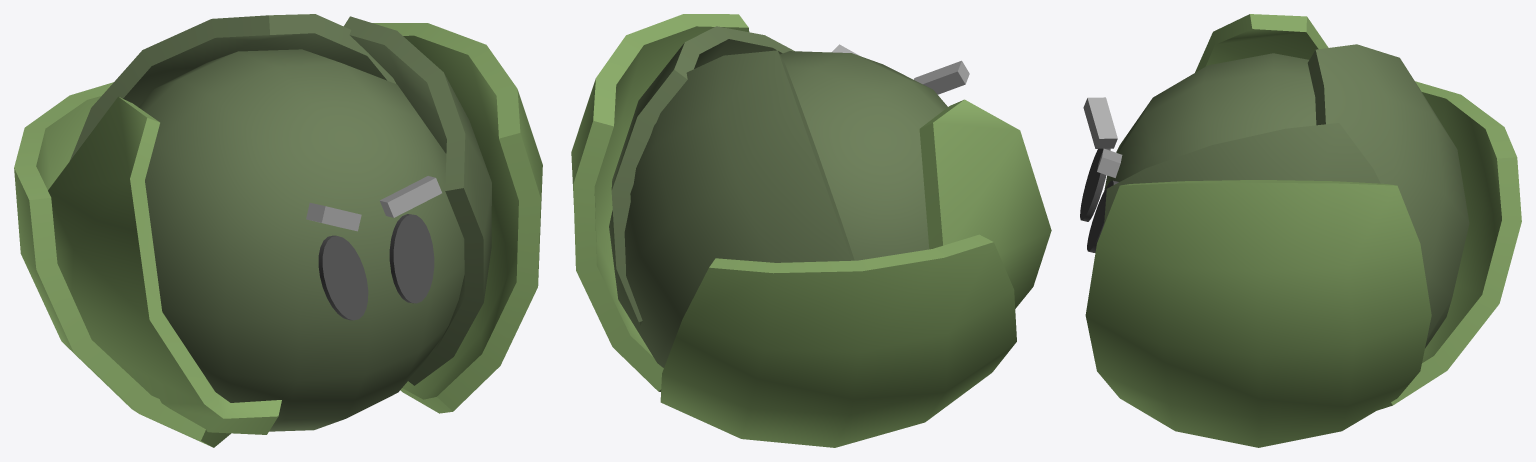
Rendered from Enemy.fbx.
3 views of the same model, side by side, from view 1: azimuth 30°, elevation 25°; view 2: azimuth 150°, elevation 25°; view 3: azimuth 270°, elevation 25° (orthographic). The views are drawn at different scales.
Visible parts, largest first — view 1: Body, L5, L4, L2, L3, L1, EL1, E1, BL1, BR1; view 2: L2, L1, Body, L4, L5, L3, BR1; view 3: L4, L1, L2, Body, L3, L5, BR1, E1, EL1, BL1.
Boxes of the visible parts, bbox=[...] form: Body: bbox=[138, 49, 464, 431]; L5: bbox=[48, 96, 281, 434]; L4: bbox=[372, 23, 542, 413]; L2: bbox=[14, 82, 230, 447]; L3: bbox=[343, 16, 491, 385]; L1: bbox=[70, 14, 396, 160]; EL1: bbox=[389, 214, 434, 303]; E1: bbox=[318, 235, 368, 320]; BL1: bbox=[379, 176, 441, 217]; BR1: bbox=[306, 203, 361, 231]; L2: bbox=[660, 234, 1016, 447]; L1: bbox=[609, 50, 854, 367]; Body: bbox=[780, 51, 947, 260]; L4: bbox=[571, 14, 749, 391]; L5: bbox=[919, 99, 1051, 308]; L3: bbox=[611, 26, 794, 325]; BR1: bbox=[914, 60, 969, 94]; L4: bbox=[1085, 180, 1431, 447]; L1: bbox=[1307, 44, 1469, 348]; L2: bbox=[1377, 81, 1521, 410]; Body: bbox=[1104, 53, 1316, 190]; L3: bbox=[1104, 123, 1380, 224]; L5: bbox=[1195, 14, 1328, 72]; BR1: bbox=[1083, 97, 1117, 148]; E1: bbox=[1080, 148, 1110, 221]; EL1: bbox=[1087, 180, 1118, 252]; BL1: bbox=[1097, 148, 1122, 177].
Bounding box in the file's own units: 202 × 172 × 186.
